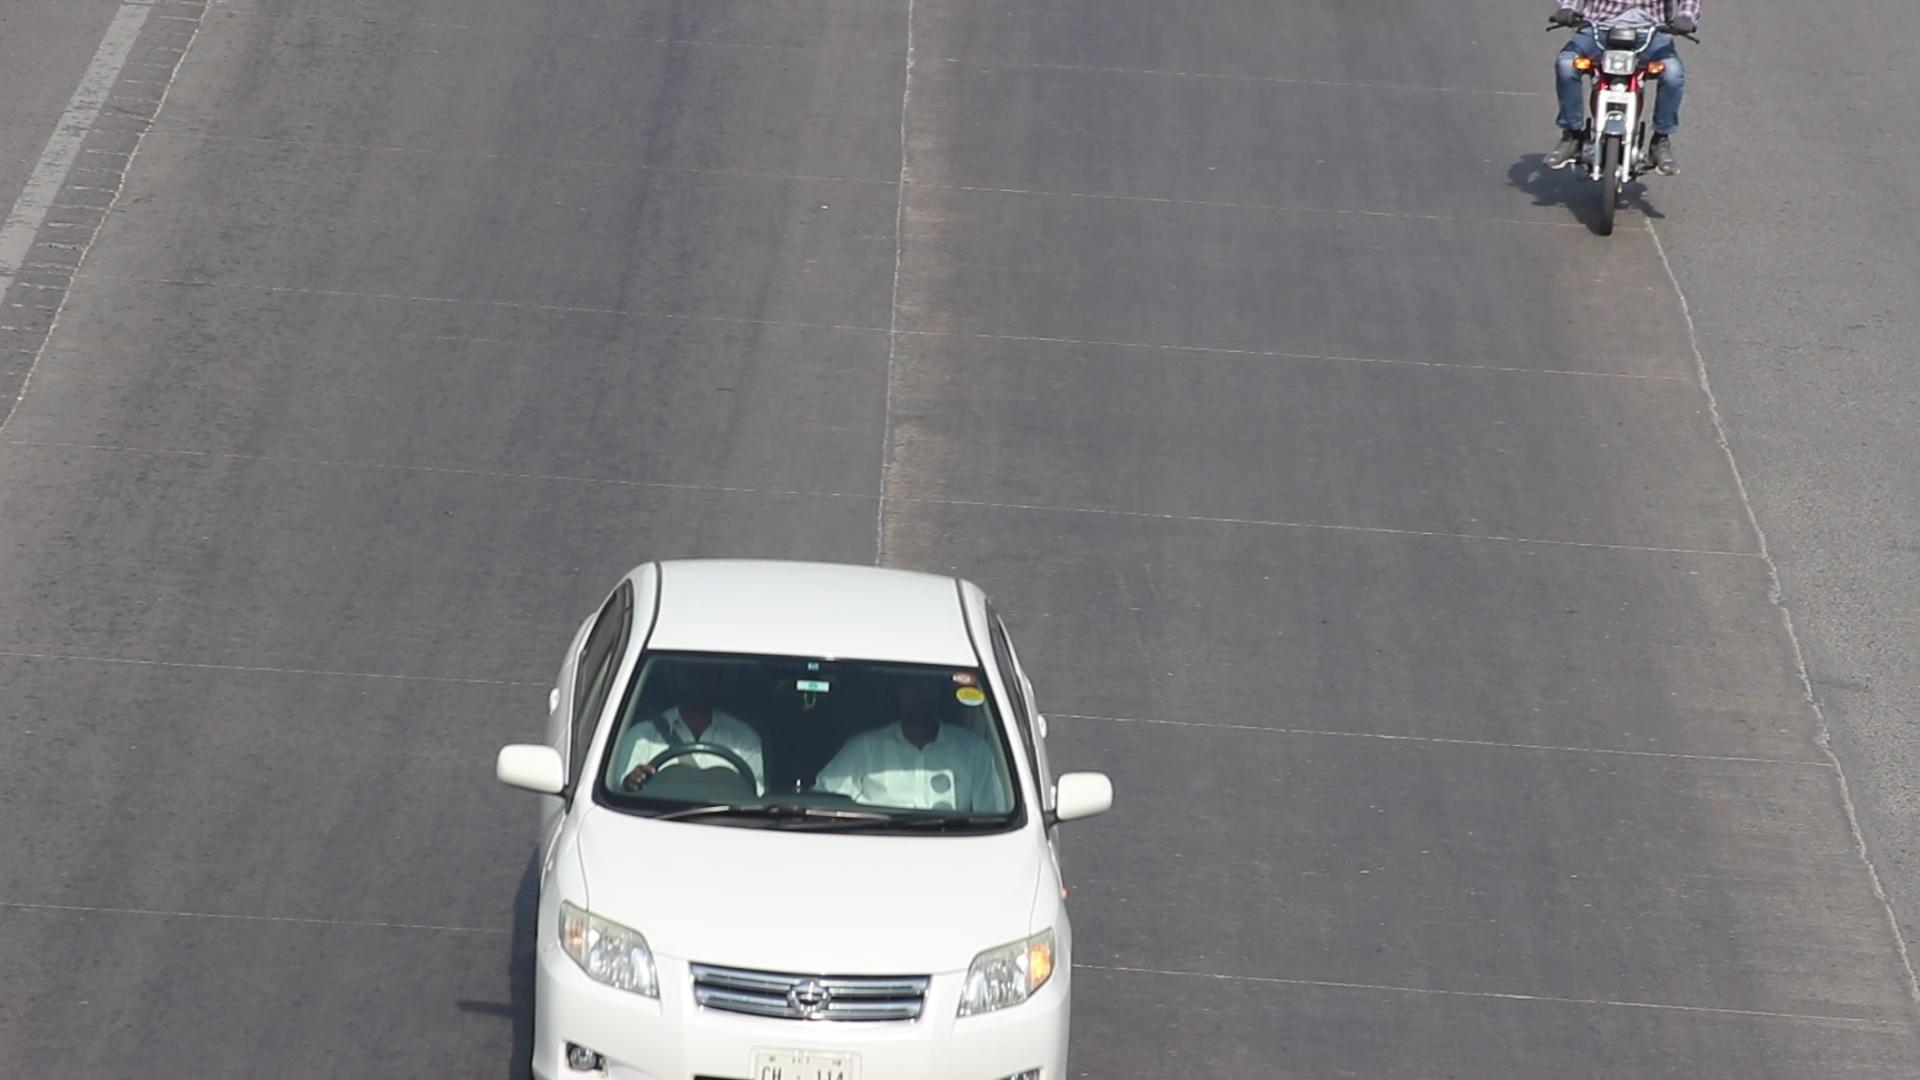windshield: (584, 633, 1027, 847)
